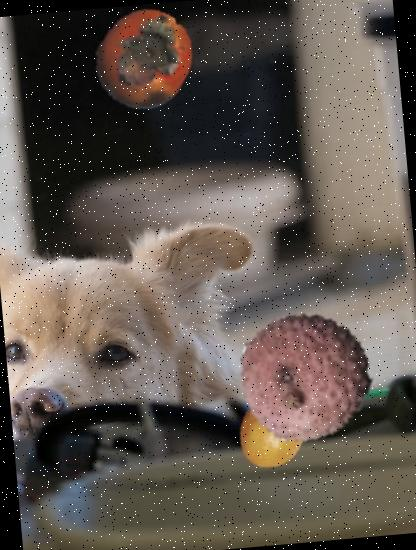Kaki: (88, 3, 200, 116)
Lemon: (232, 392, 314, 474)
Lychee: (232, 306, 379, 452)
